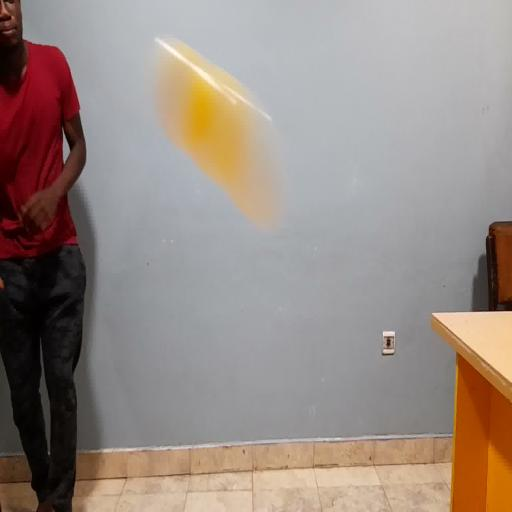plastic-ball: (156, 39, 282, 228)
